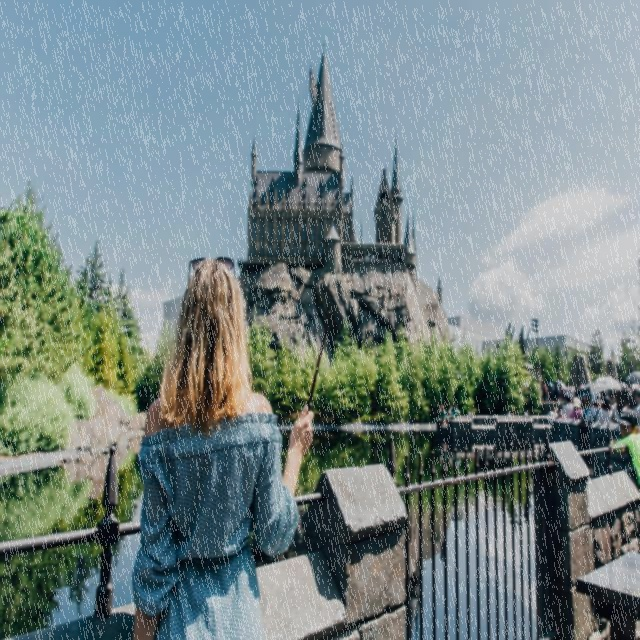pessoa: (130, 258, 314, 640), (610, 407, 640, 489), (601, 383, 640, 424), (540, 380, 572, 410), (586, 393, 612, 423), (439, 441, 462, 473), (570, 396, 584, 419), (580, 392, 592, 418), (439, 403, 447, 438), (560, 398, 574, 418), (452, 404, 460, 436), (570, 398, 582, 419), (448, 406, 456, 436), (546, 405, 554, 430), (572, 383, 580, 398), (524, 409, 530, 416), (470, 408, 474, 417), (506, 408, 510, 416), (553, 407, 556, 412)
